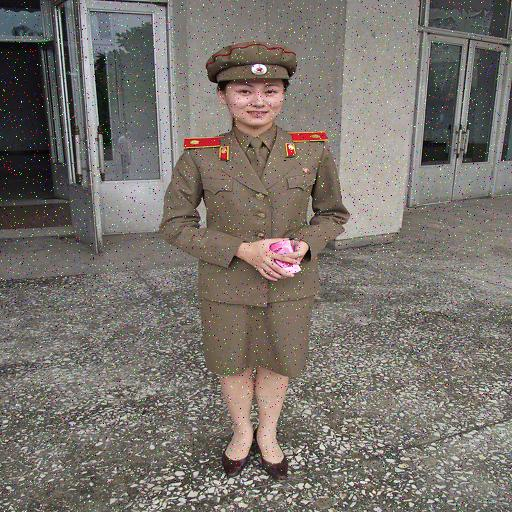north army: (160, 27, 368, 464)
